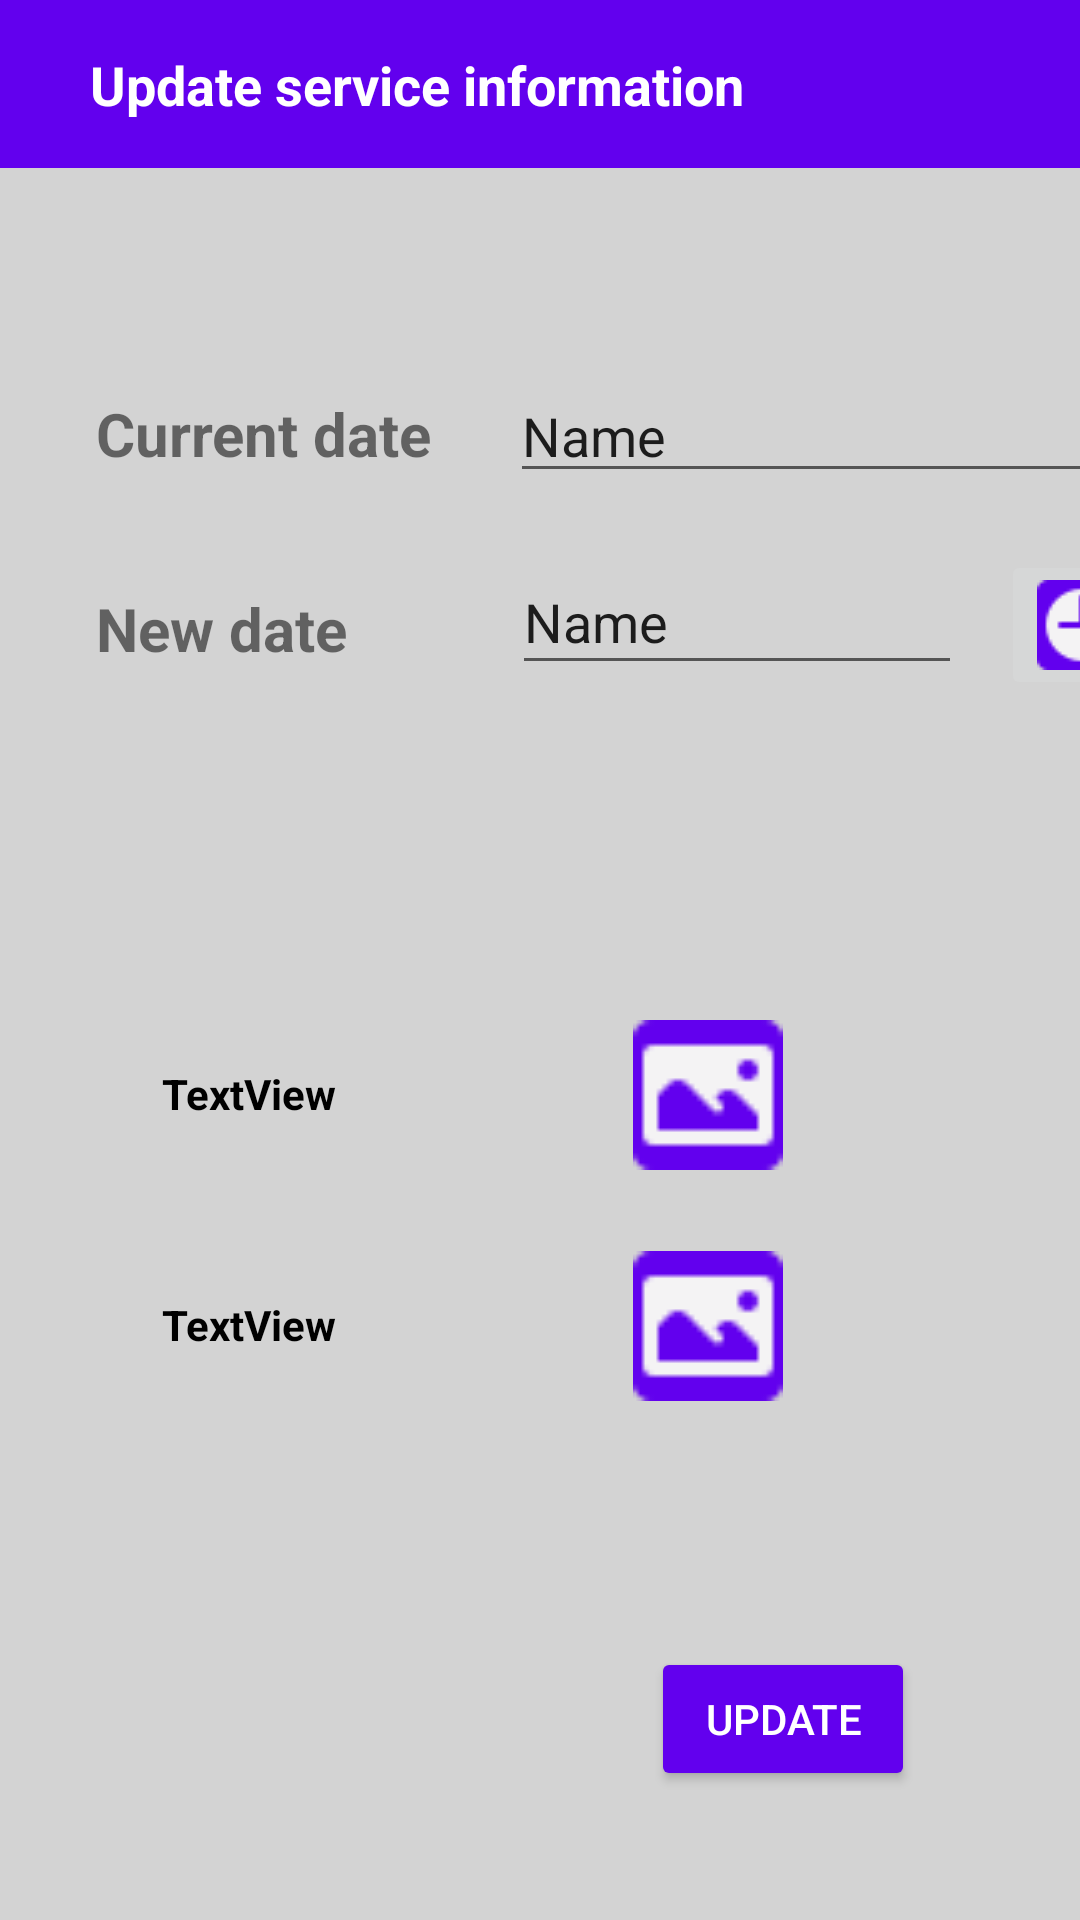

Icons on this 1080×1920 Android screen, each with its box as BBox(x1, y1, x2, y2):
photo: BBox(633, 1020, 783, 1170), BBox(633, 1251, 783, 1401)
